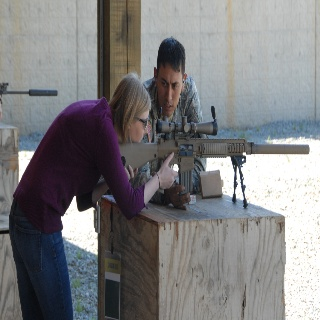rifle: (77, 104, 311, 212)
